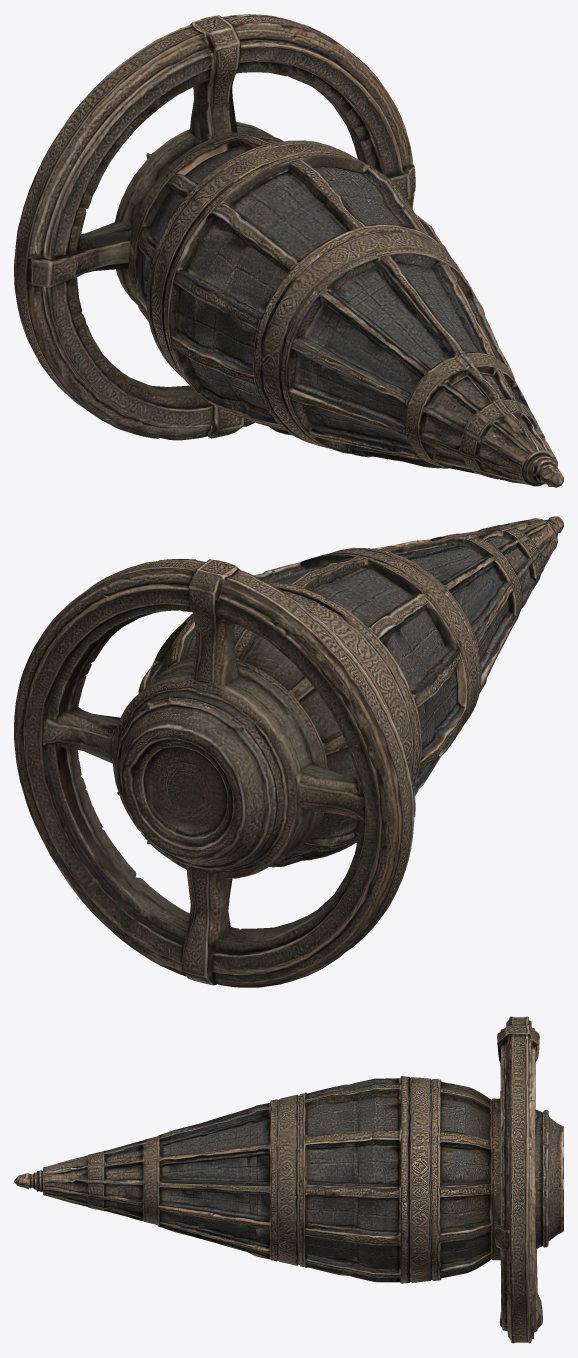
The model's file is makers-seedship.glb.
The picture shows the model from 3 angles, top to bottom: view 1: azimuth 30°, elevation 25°; view 2: azimuth 150°, elevation 25°; view 3: azimuth 270°, elevation 25°; orthographic projection. The views are drawn at different scales.
Visible parts, largest first — view 1: tripo_node_44a0e02a-6bdd-467d-a2f7-dbdfbcb0bdca; view 2: tripo_node_44a0e02a-6bdd-467d-a2f7-dbdfbcb0bdca; view 3: tripo_node_44a0e02a-6bdd-467d-a2f7-dbdfbcb0bdca.
Boxes of the visible parts, x1,y1,x2,y2 form: tripo_node_44a0e02a-6bdd-467d-a2f7-dbdfbcb0bdca: (14,14,563,487); tripo_node_44a0e02a-6bdd-467d-a2f7-dbdfbcb0bdca: (14,516,563,987); tripo_node_44a0e02a-6bdd-467d-a2f7-dbdfbcb0bdca: (14,1016,563,1343).
Bounding box in the file's own units: 0.5954 × 0.6008 × 1.
1 material, 1 textured.
